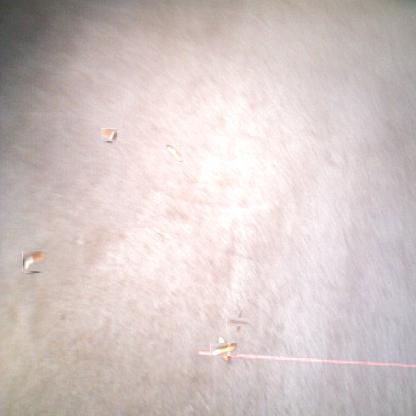dirty: (23, 251, 45, 272), (214, 339, 234, 360), (166, 144, 182, 161), (102, 128, 117, 142)
mark: (231, 314, 247, 331), (57, 312, 67, 322)
